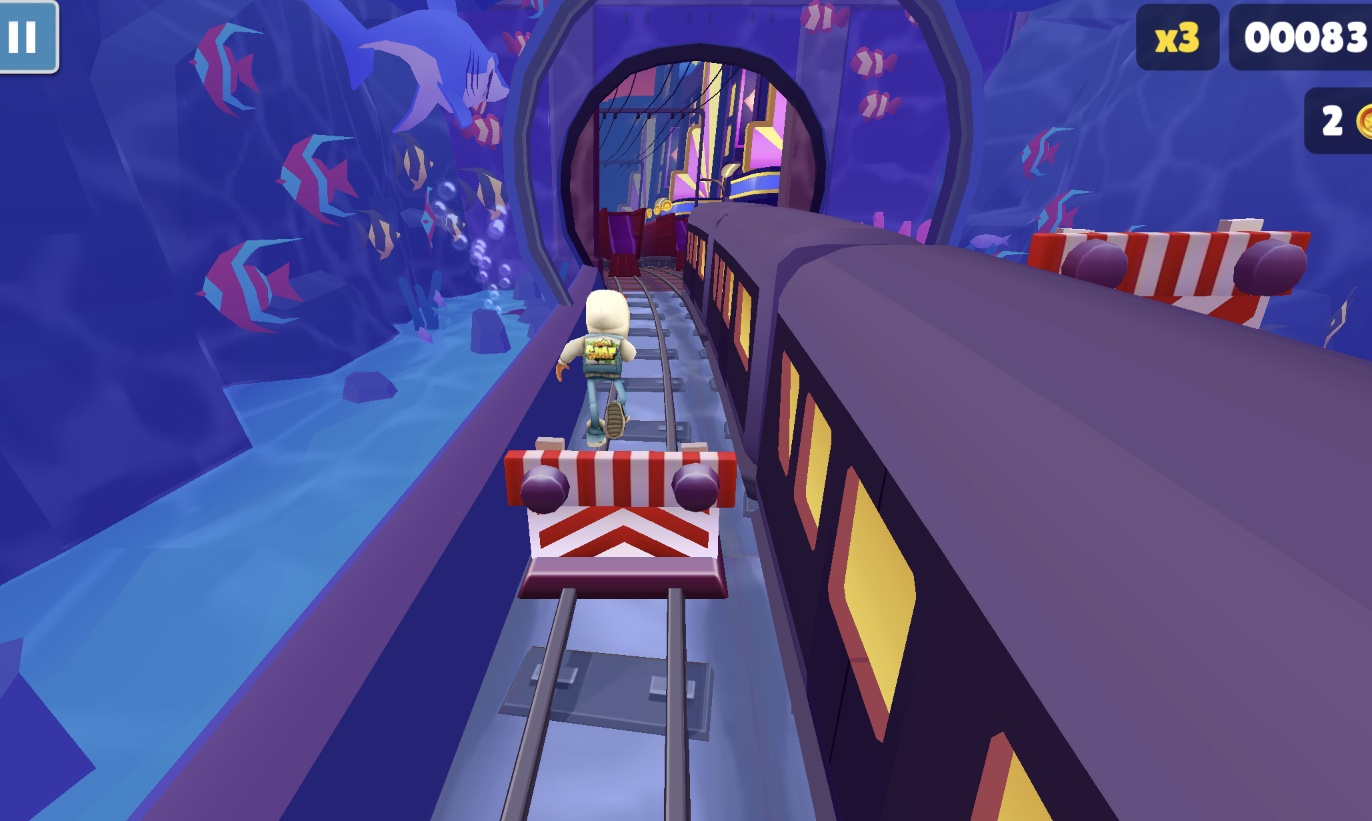ground_barrier: (495, 437, 746, 600)
overhead_barrier: (1022, 223, 1320, 310)
train: (672, 202, 1371, 821), (596, 207, 646, 286), (639, 208, 686, 268)
